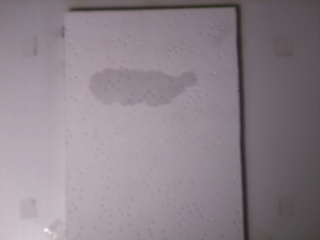Water_detected: (105, 72, 188, 113)
